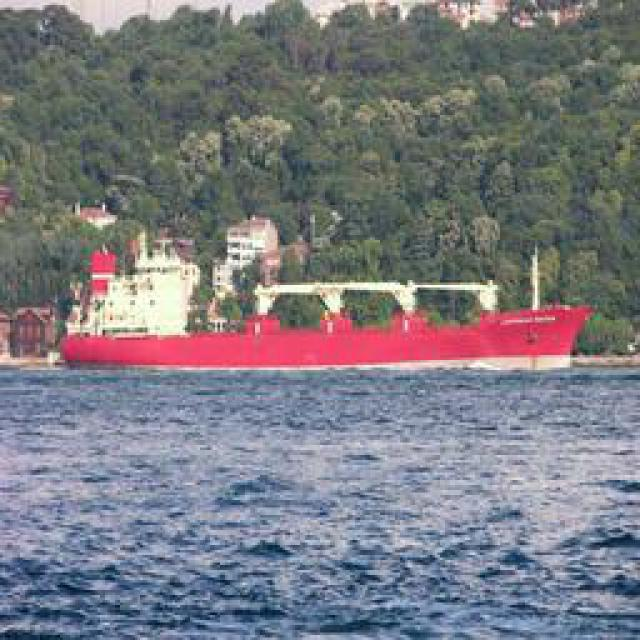Ship: (54, 289, 597, 374)
